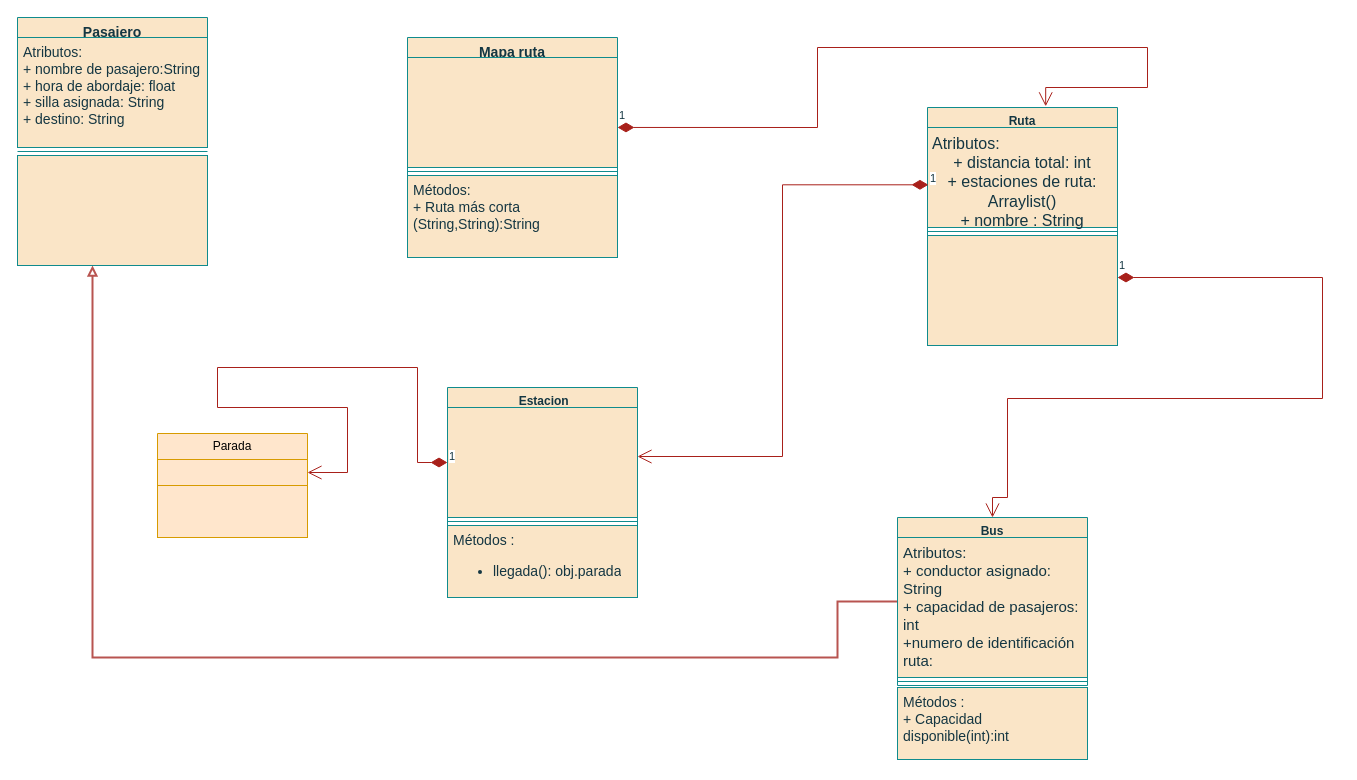
The diagram is 1357 pixels wide and 780 high, and some of its shapes have lost their labels. Each missing label, with the centre of its shape:
+ hora de llega : int + dia : int + bus : String: the point at 232,511
Atributos:: the point at 232,472
Atributos: + nombre: String + ubicación :String + vagones: int: the point at 542,462
Atributos: + rutas: Arraylist() + tarifa de pasajeros: long: the point at 512,112
Metodos: + Distancia total (): int + Tiempo estimado():int + nombre ruta():void: the point at 1022,290
Métodos : +Tiempo de llegada estimado (String,String): int: the point at 112,210
